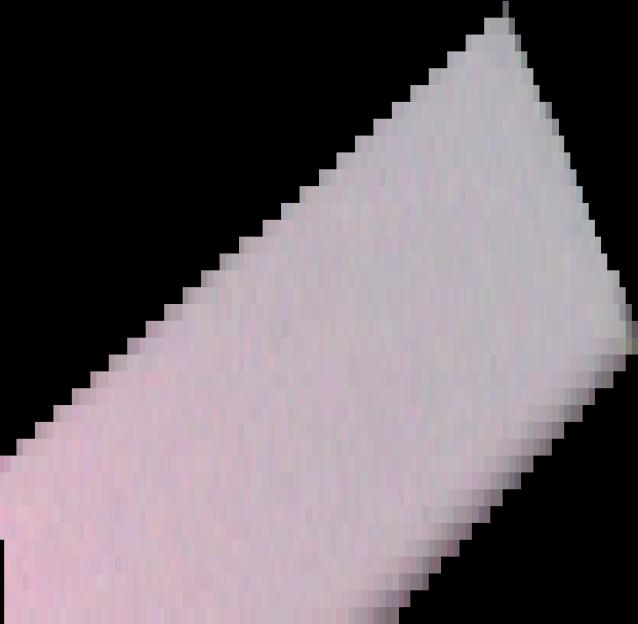lane: (1, 1, 638, 624)
